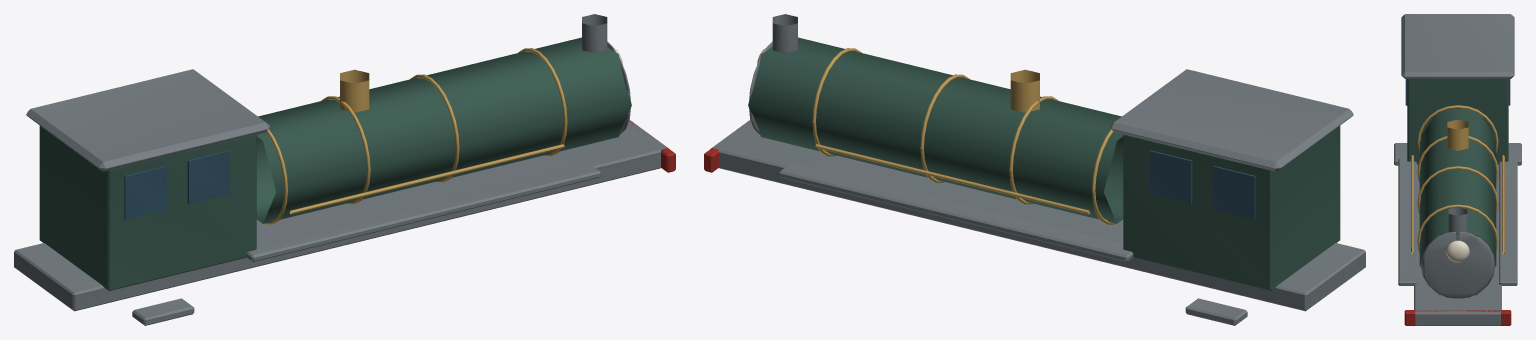
Rendered from locomotive.glb.
The picture shows the model from 3 angles, left to right: view 1: azimuth 30°, elevation 25°; view 2: azimuth 150°, elevation 25°; view 3: azimuth 270°, elevation 25°; orthographic projection. The views are drawn at different scales.
Visible parts, largest first — view 1: boiler, locomotive chassis, boiler band, cab window; view 2: boiler, locomotive chassis, boiler band, cab window; view 3: locomotive chassis, boiler, boiler band, buffer beam, head lamp, cab window.
Part boxes in pixels (left/top/right/bottom): boiler: left=39, top=37, right=631, bottom=290; locomotive chassis: left=14, top=14, right=668, bottom=325; boiler band: left=264, top=48, right=567, bottom=224; cab window: left=124, top=150, right=229, bottom=219; boiler: left=748, top=37, right=1340, bottom=290; locomotive chassis: left=711, top=14, right=1365, bottom=325; boiler band: left=812, top=48, right=1115, bottom=224; cab window: left=1150, top=150, right=1255, bottom=219; locomotive chassis: left=1394, top=14, right=1521, bottom=325; boiler: left=1407, top=79, right=1508, bottom=295; boiler band: left=1411, top=105, right=1504, bottom=254; buffer beam: left=1404, top=310, right=1511, bottom=325; head lamp: left=1446, top=240, right=1469, bottom=262; cab window: left=1405, top=79, right=1510, bottom=105.
Size of the model in its own units: 9.4 by 2.52 by 2.39.
